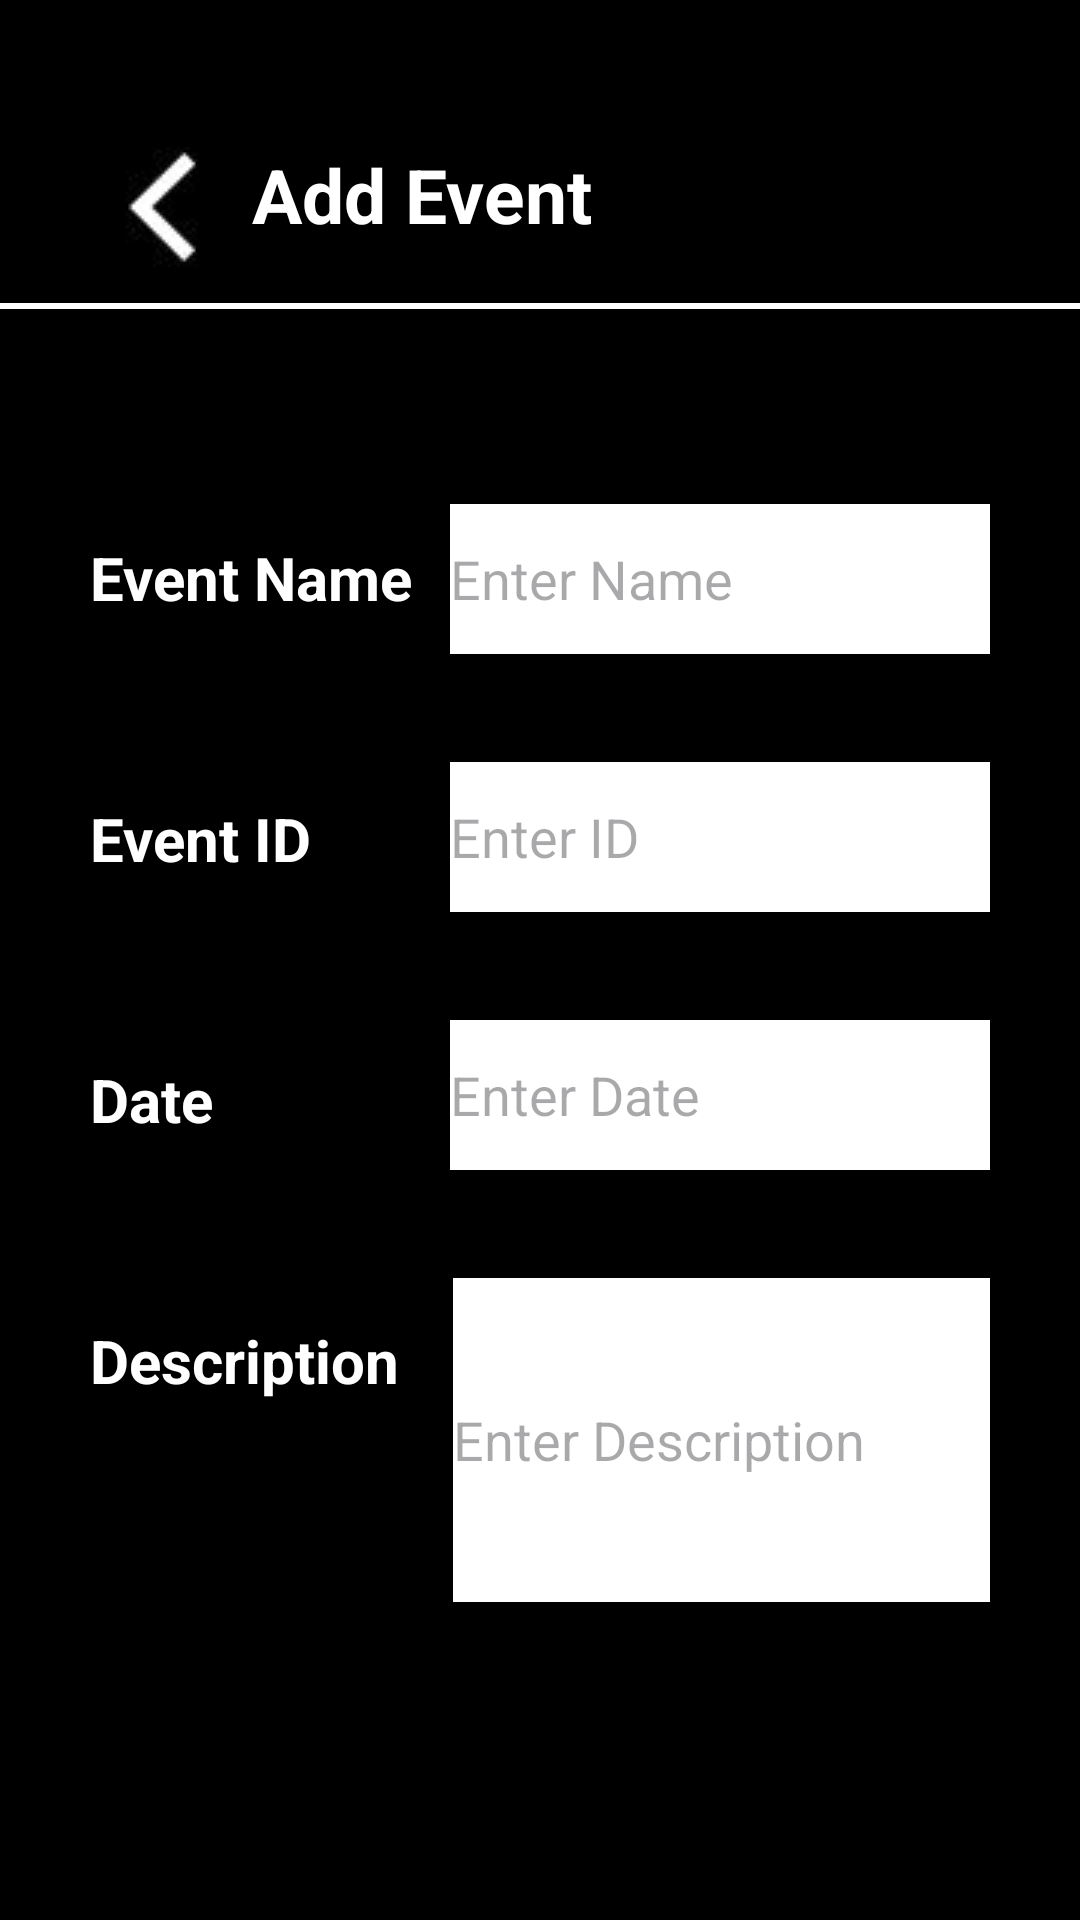

Where icons sit on this 1080×1920 app screen, as (x1, y1, x2, y2):
arrow: (128, 152, 196, 262)
